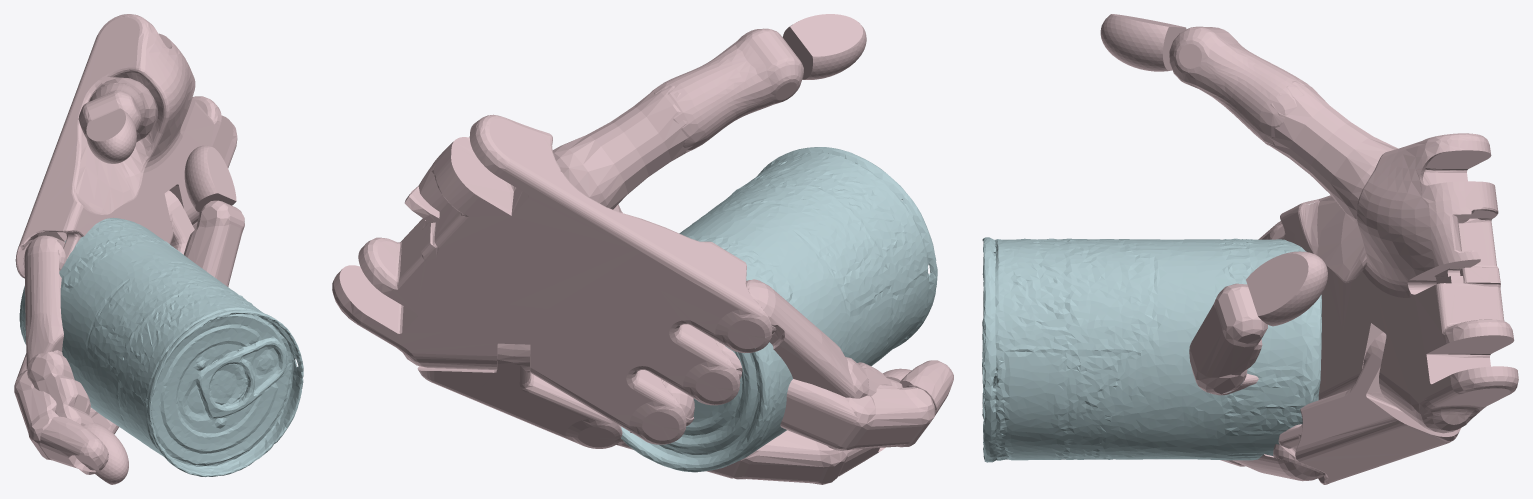
Rendered from grasp_5.glb.
3 renders of one model, left to right at view 1: azimuth 30°, elevation 25°; view 2: azimuth 150°, elevation 25°; view 3: azimuth 270°, elevation 25°, orthographic. The views are drawn at different scales.
Visible parts, largest first — view 1: world; view 2: world; view 3: world.
Boxes of the visible parts, x1,y1,x2,y2 form: world: (14,14,303,484); world: (332,14,953,484); world: (982,14,1518,484).
Size of the model in its own units: 0.1474 by 0.1481 by 0.1609.
